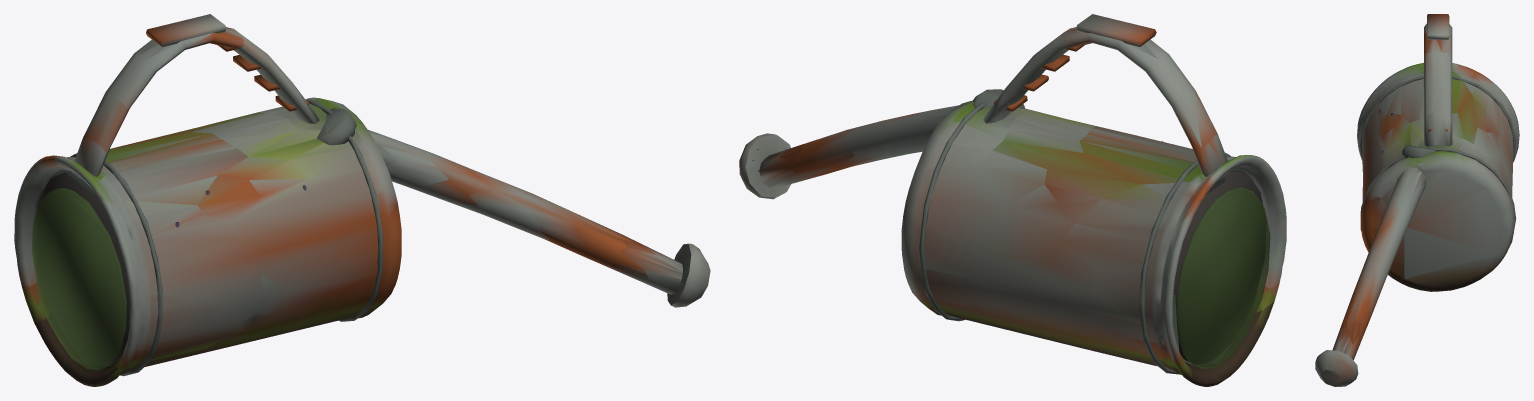
File: mire_watering_can_lod2.glb
3 views of the same model, side by side, from view 1: azimuth 30°, elevation 25°; view 2: azimuth 150°, elevation 25°; view 3: azimuth 270°, elevation 25° (orthographic). The views are drawn at different scales.
Parts seen in each view (by area): view 1: mire_watering_can.001; view 2: mire_watering_can.001; view 3: mire_watering_can.001.
Boxes of the visible parts, x1=… form: mire_watering_can.001: x1=14, y1=14, x2=710, y2=386; mire_watering_can.001: x1=739, y1=14, x2=1286, y2=386; mire_watering_can.001: x1=1315, y1=14, x2=1519, y2=386.
Size of the model in its own units: 52.96 by 29.36 by 24.48.
